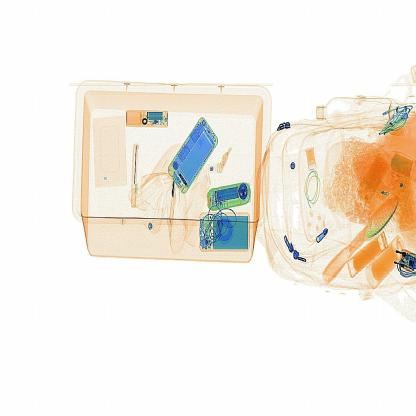wrench: (128, 139, 143, 217)
